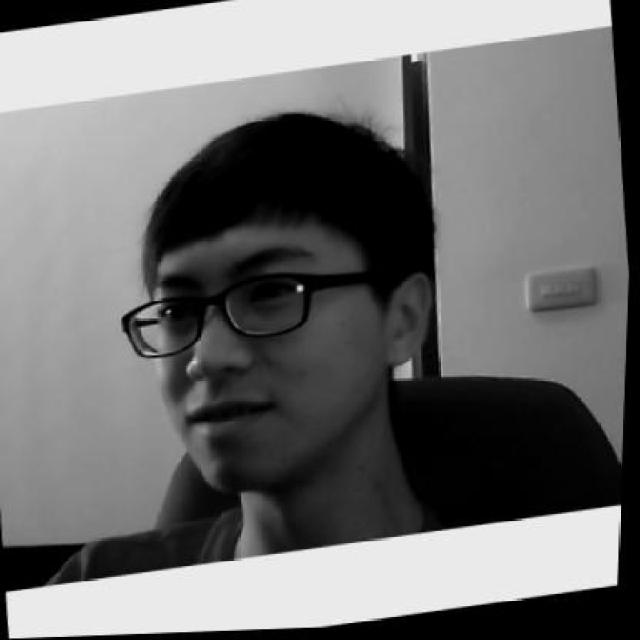attentif: (93, 90, 455, 510)
